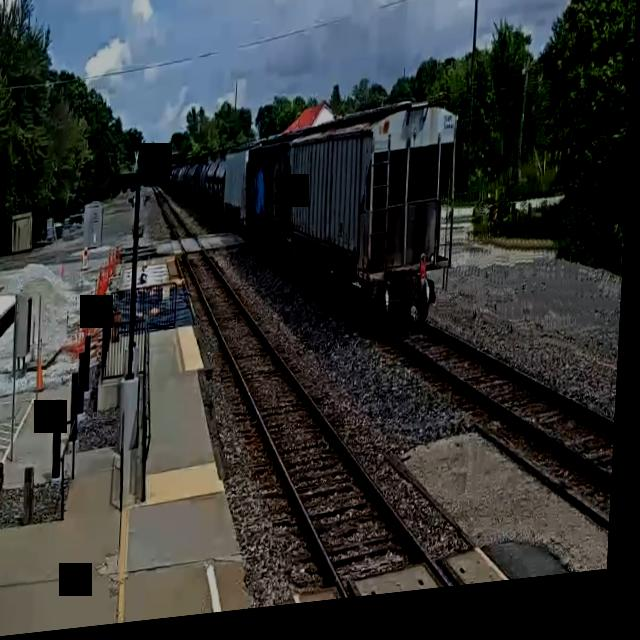hopper: (277, 96, 470, 366)
